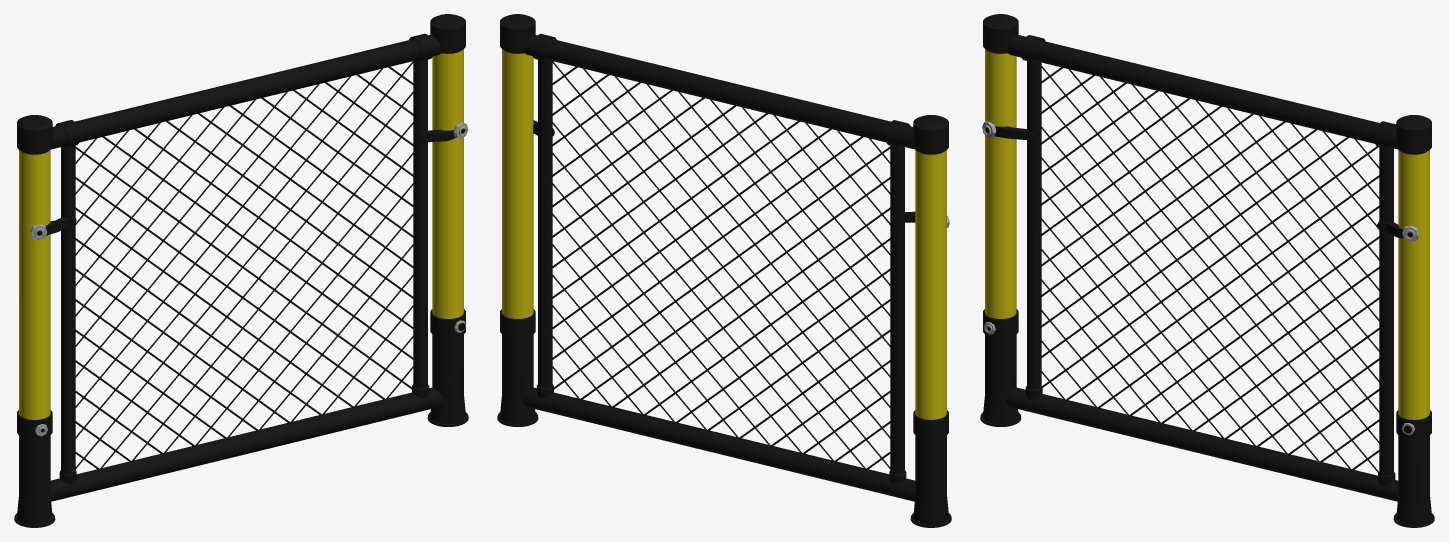
The model's file is FenceWall.fbx.
3 views of the same model, side by side, from view 1: azimuth 30°, elevation 25°; view 2: azimuth 150°, elevation 25°; view 3: azimuth 330°, elevation 25° (orthographic).
Parts seen in each view (by area): view 1: Plane; view 2: Plane; view 3: Plane.
Part boxes in pixels (box(x1,y1,x2,y2)): Plane: box(14, 14, 468, 527); Plane: box(497, 14, 951, 527); Plane: box(980, 14, 1434, 527).
Size of the model in its own units: 1422 by 1206 by 115.
